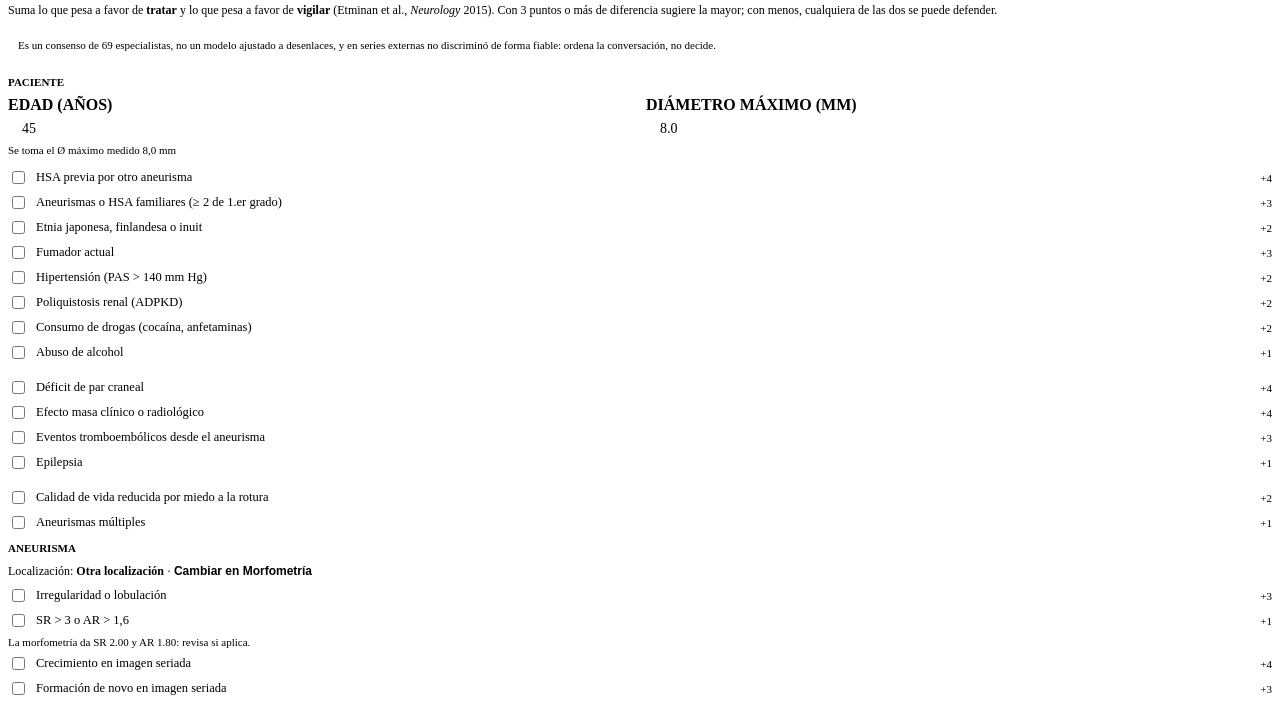
UIATS › rellena edad y diámetro, y manda lo marcado
Expected: the number field labelled "Edad (años)" holds "45", [20, 120, 622, 138]
Expected: the number field labelled "Diámetro máximo (mm)" holds "8.0", [658, 120, 1260, 138]
Click the text "Fumador actual".
click(75, 252)  # box [36, 245, 114, 259]
(page scrolled)
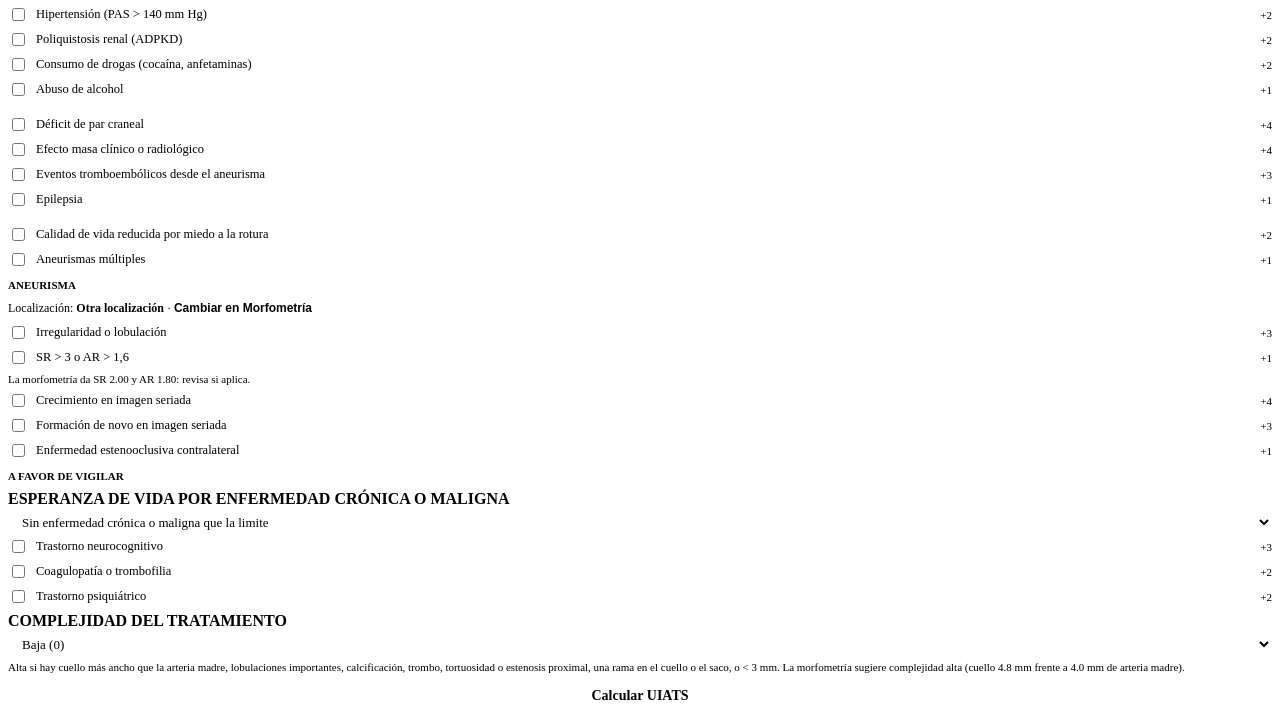
Click the button "Calcular UIATS".
click(640, 696)  # box [8, 686, 1272, 704]
(page scrolled)
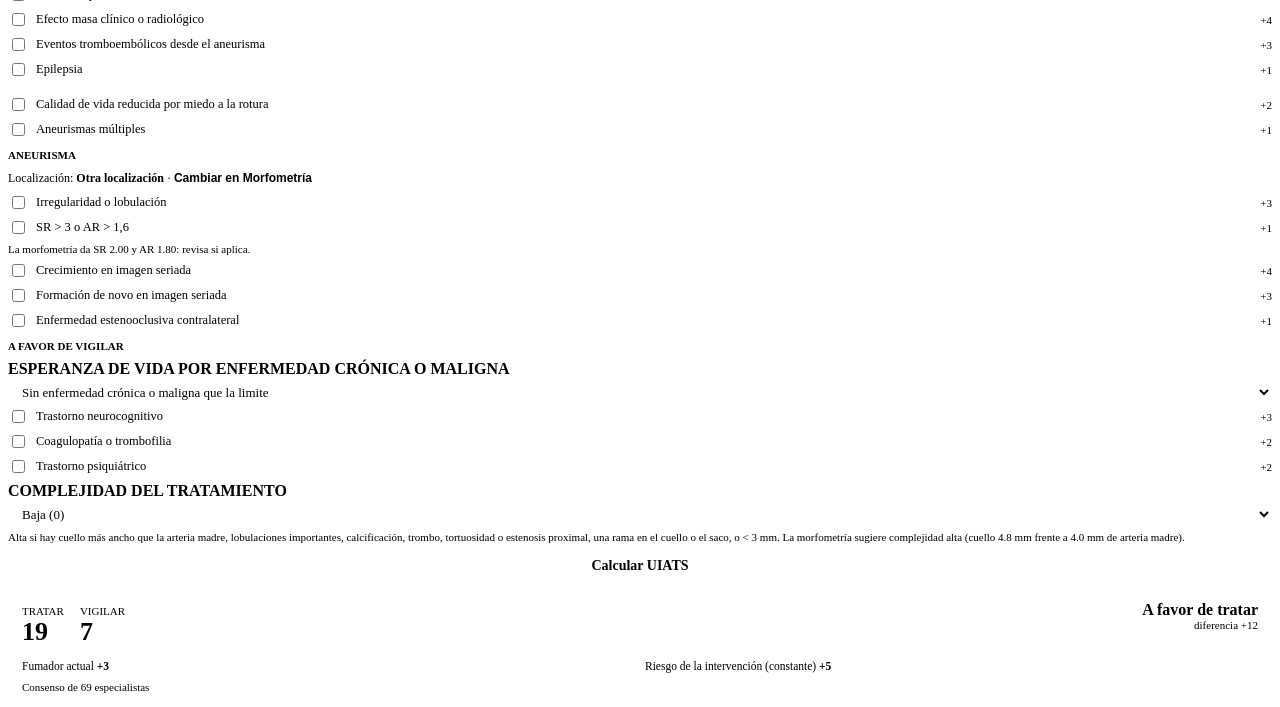
Now the text "A favor de tratar" is shown, box [1142, 600, 1258, 618]
